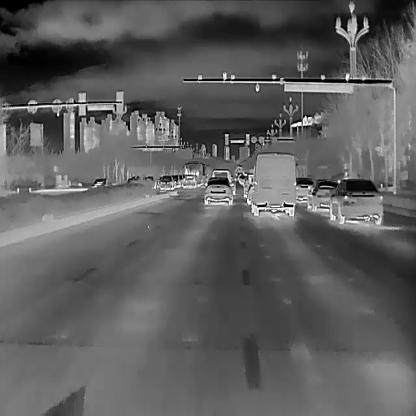bus: (184, 159, 209, 180)
car: (249, 152, 295, 216), (328, 178, 383, 223), (307, 179, 342, 209), (204, 176, 233, 206), (212, 168, 234, 194), (294, 177, 312, 203), (181, 172, 195, 190), (157, 174, 171, 188)
